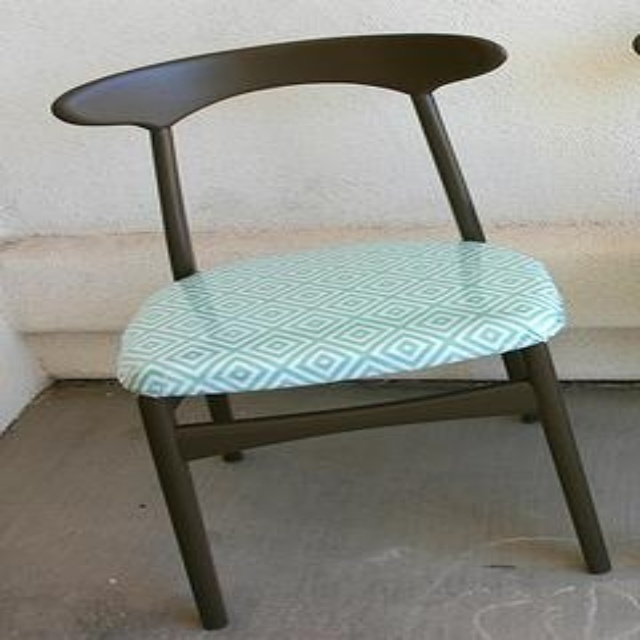obstacle: (51, 33, 608, 628)
